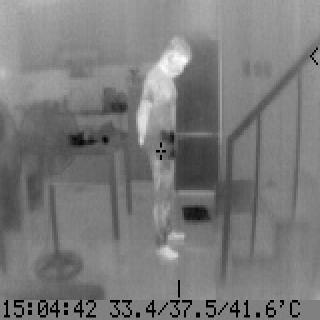Gun: (158, 123, 178, 165)
